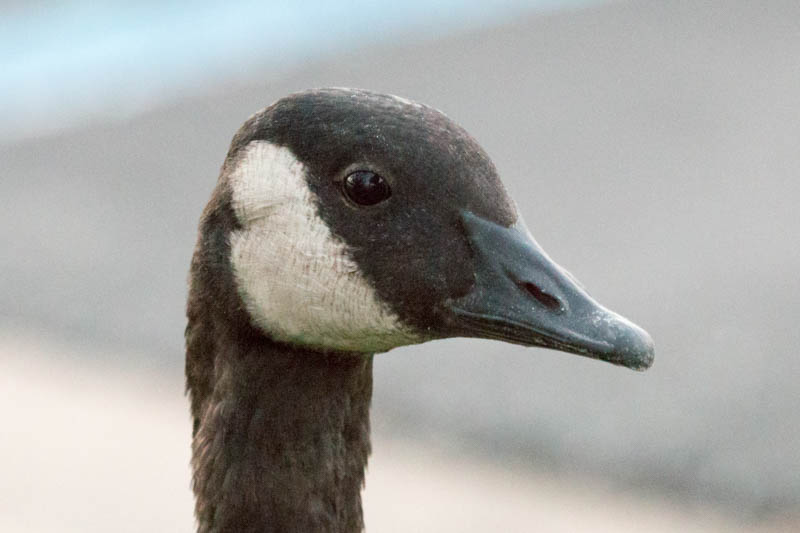goose-head: (186, 87, 656, 373)
